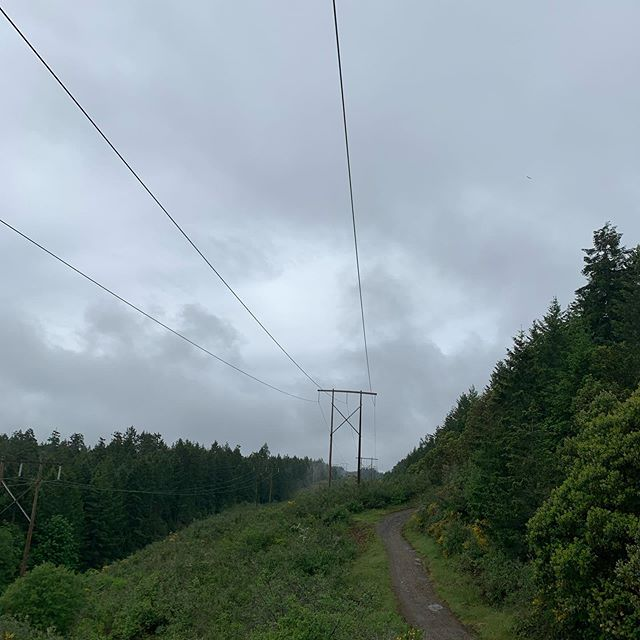road: (346, 491, 483, 640)
sky: (17, 1, 640, 422)
vegetation: (434, 241, 640, 640), (1, 436, 376, 640)
